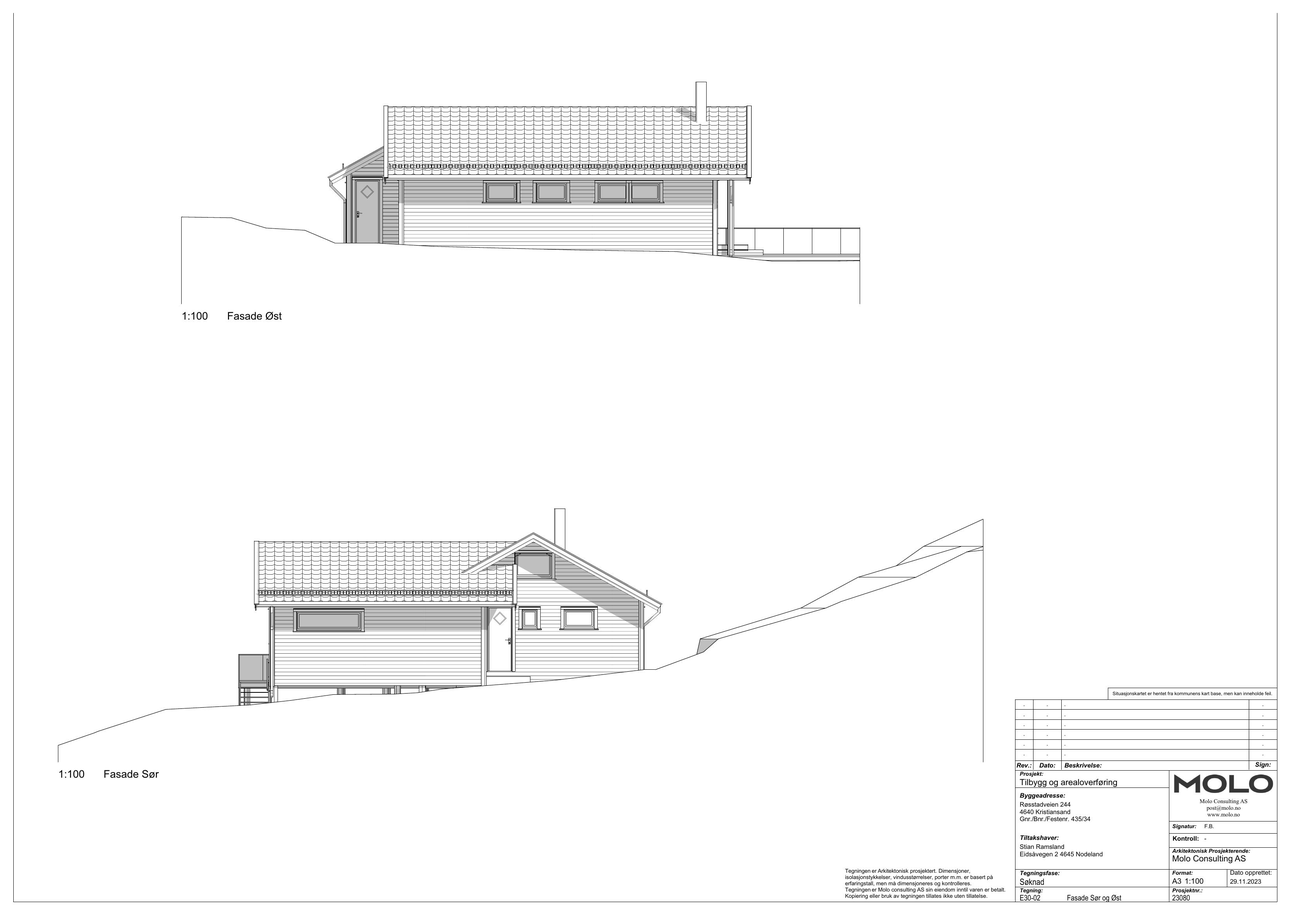fasade: (329, 77, 869, 301), (233, 503, 663, 713)
